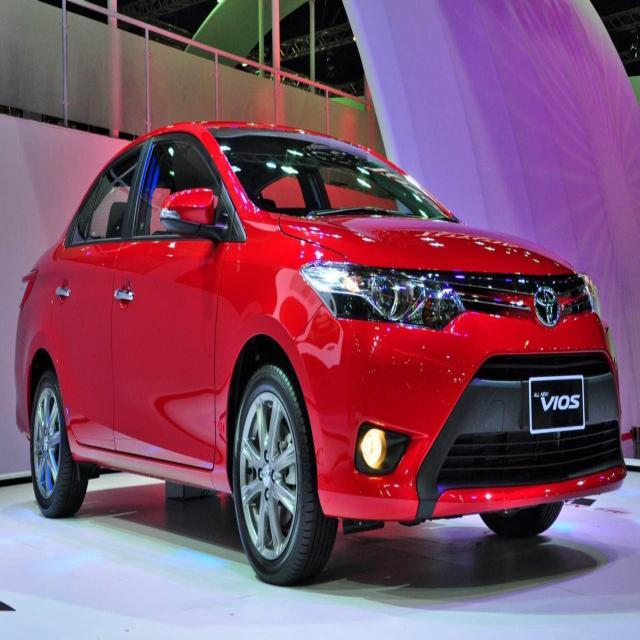ToyotaVios: (13, 118, 627, 586)
